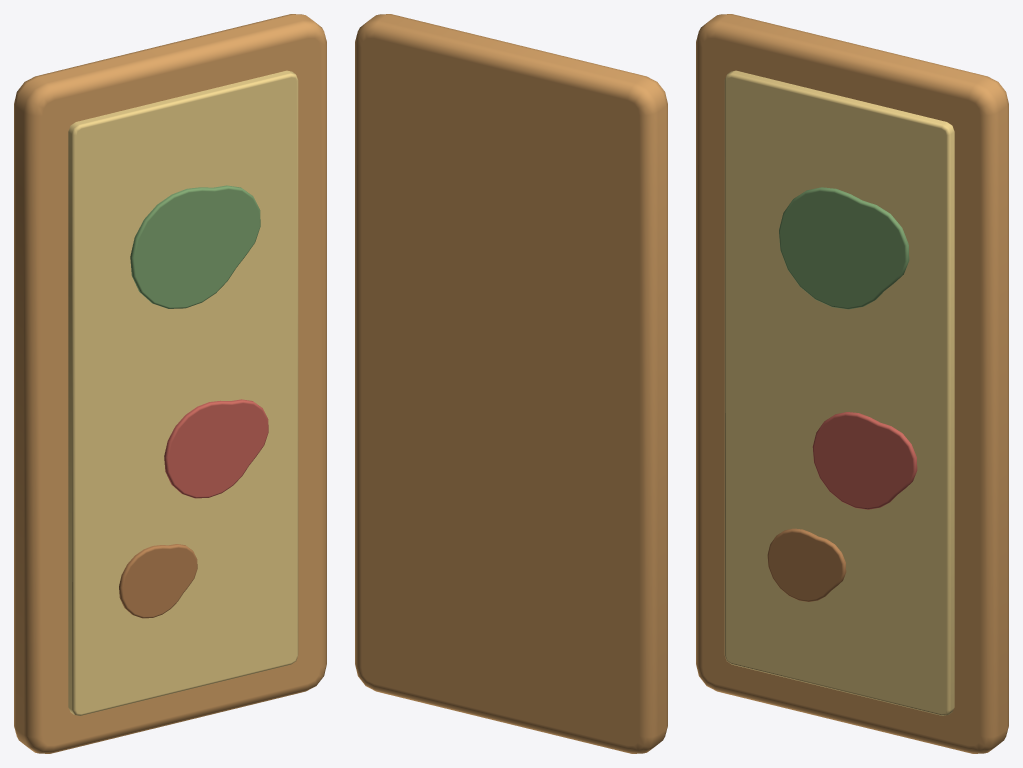
The model's file is framed_painting_scroll.glb.
The picture shows the model from 3 angles, left to right: view 1: azimuth 30°, elevation 25°; view 2: azimuth 150°, elevation 25°; view 3: azimuth 330°, elevation 25°; orthographic projection.
Parts seen in each view (by area): view 1: framed_painting_scroll_mesh; view 2: framed_painting_scroll_mesh; view 3: framed_painting_scroll_mesh.
Boxes of the visible parts, x1=… form: framed_painting_scroll_mesh: x1=14, y1=14, x2=326, y2=753; framed_painting_scroll_mesh: x1=355, y1=14, x2=667, y2=753; framed_painting_scroll_mesh: x1=696, y1=14, x2=1008, y2=753.
Bounding box in the file's own units: 0.4 × 0.85 × 0.067.
